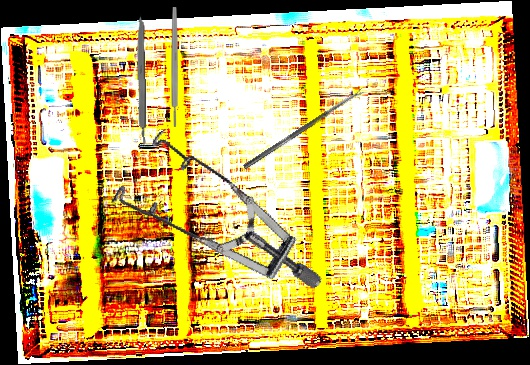Scalpel Handle: (135, 12, 147, 147), (171, 7, 178, 127)
Speculum: (93, 96, 324, 349)
Surgical Spoon: (242, 87, 366, 171)
